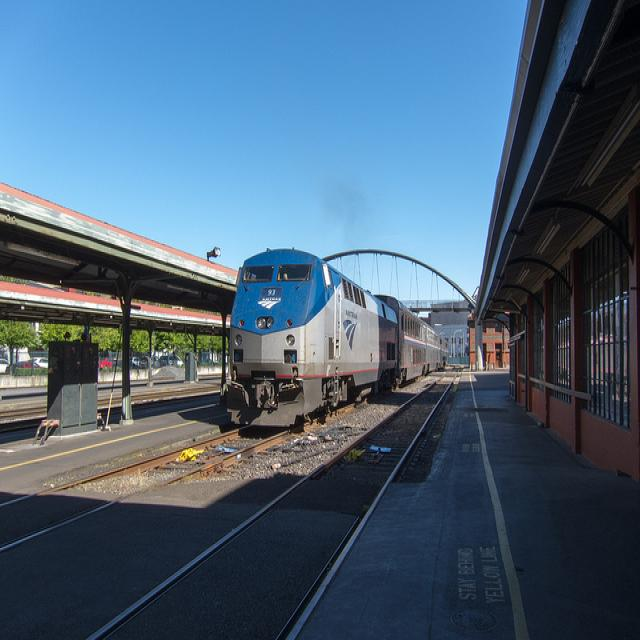Vehicle: (33, 356, 49, 368), (0, 358, 10, 374), (100, 357, 112, 370), (132, 355, 139, 366)
